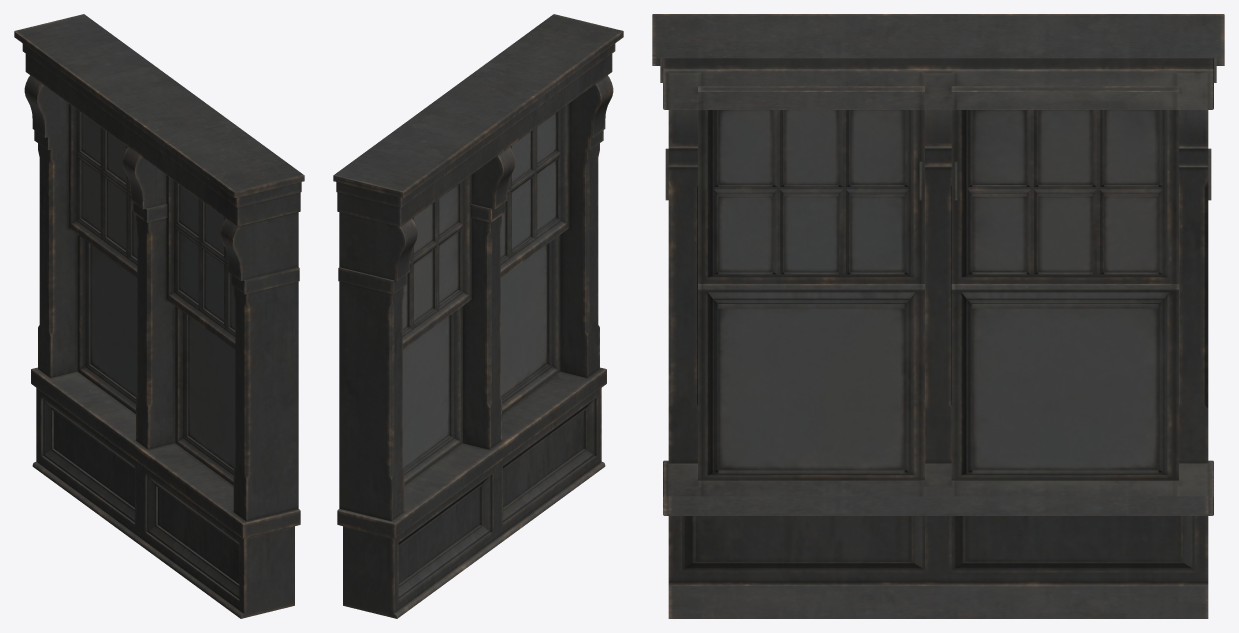
Rendered from modular_urban_apartments_facade__window_centered_large_01.obj.
The picture shows the model from 3 angles, left to right: view 1: azimuth 30°, elevation 25°; view 2: azimuth 150°, elevation 25°; view 3: azimuth 270°, elevation 25°; orthographic projection. The views are drawn at different scales.
Visible parts, largest first — view 1: window_centered_large_01; view 2: window_centered_large_01; view 3: window_centered_large_01.
Part boxes in pixels (x1=…): window_centered_large_01: x1=14, y1=14, x2=304, y2=618; window_centered_large_01: x1=333, y1=14, x2=623, y2=618; window_centered_large_01: x1=652, y1=14, x2=1224, y2=618.
Size of the model in its own units: 0.39 by 2.3 by 2.12.
Materials: 2 (2 with a texture image).
